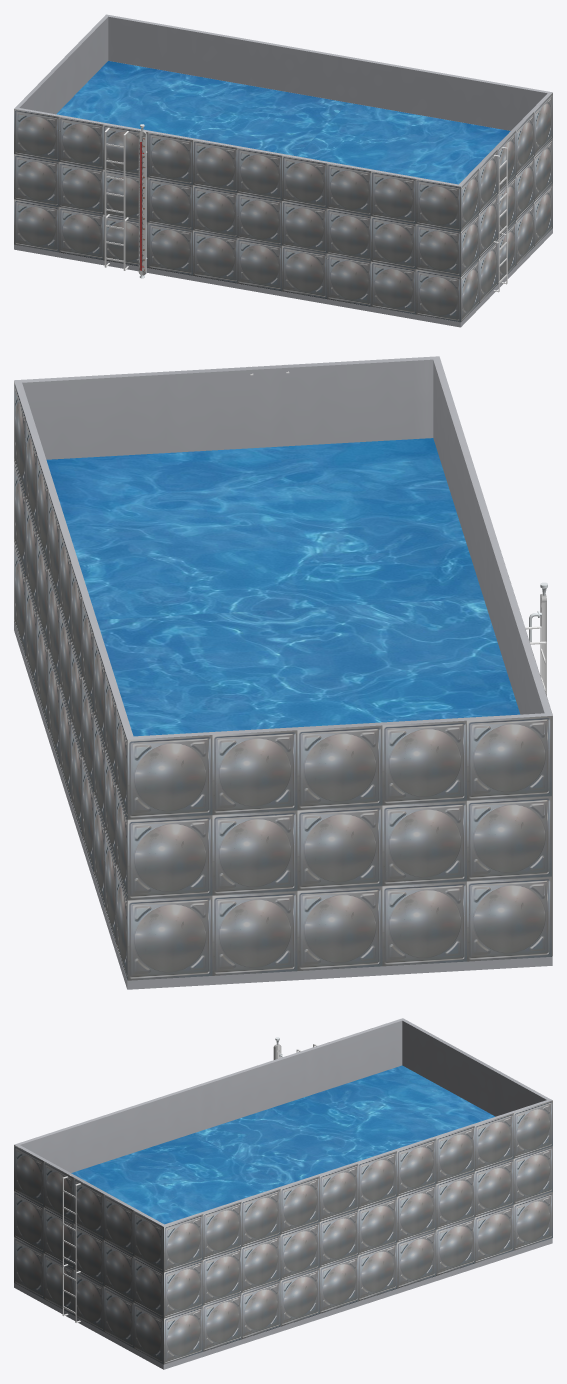
The picture shows the model from 3 angles, top to bottom: view 1: azimuth 30°, elevation 25°; view 2: azimuth 150°, elevation 25°; view 3: azimuth 270°, elevation 25°; orthographic projection. The views are drawn at different scales.
Visible parts, largest first — view 1: 水箱-贴片04, 水箱-框架, 水箱-水面位置, 水箱-贴片02, 水箱-水尺条, 水箱-爬梯01, 水箱-爬梯02; view 2: 水箱-水面位置, 水箱-贴片01, 水箱-框架, 水箱-贴片03; view 3: 水箱-贴片03, 水箱-框架, 水箱-水面位置, 水箱-贴片02, 水箱-爬梯02.
Boxes of the visible parts, box(x1,y1,x2,y2) form: 水箱-贴片04: box(14, 109, 460, 322); 水箱-框架: box(14, 14, 552, 327); 水箱-水面位置: box(56, 61, 510, 184); 水箱-贴片02: box(461, 93, 552, 321); 水箱-水尺条: box(138, 130, 146, 275); 水箱-爬梯01: box(104, 127, 128, 270); 水箱-爬梯02: box(491, 147, 507, 292); 水箱-水面位置: box(46, 438, 520, 736); 水箱-贴片01: box(127, 716, 552, 980); 水箱-框架: box(14, 356, 552, 989); 水箱-贴片03: box(14, 382, 127, 980); 水箱-贴片03: box(164, 1100, 552, 1364); 水箱-框架: box(14, 1018, 552, 1369); 水箱-水面位置: box(71, 1065, 495, 1224); 水箱-贴片02: box(14, 1145, 163, 1364); 水箱-爬梯02: box(62, 1175, 80, 1322).
Size of the model in its own units: 14.11 by 4.91 by 15.4.
9 materials, 7 textured.
